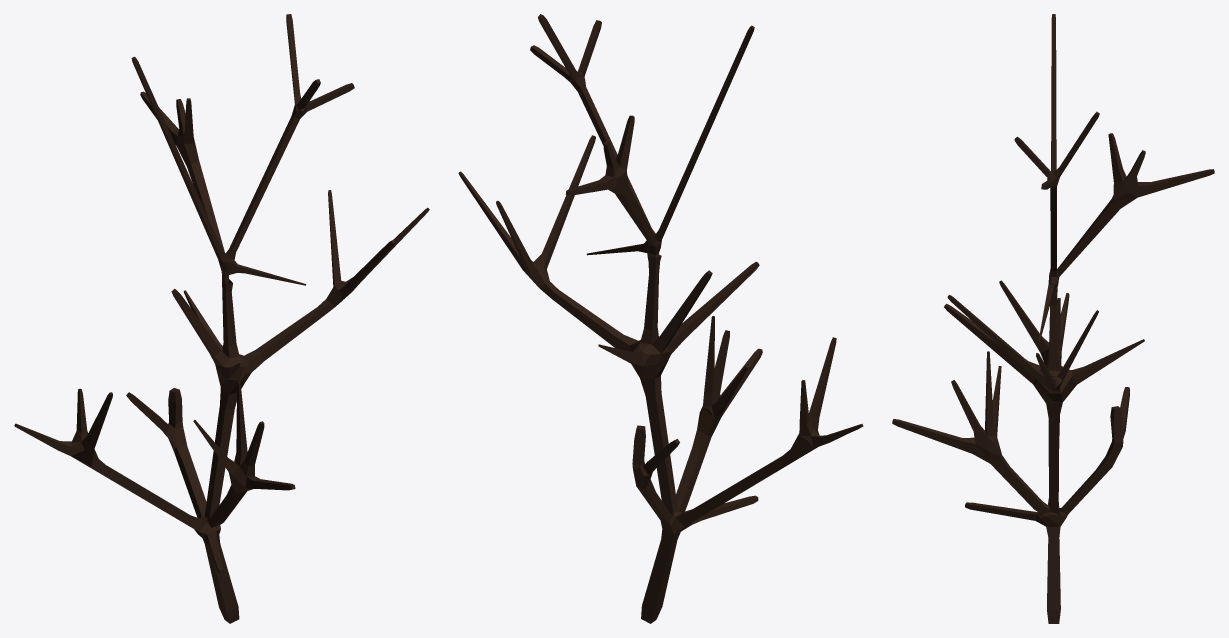
The model's file is tree.fbx.
3 views of the same model, side by side, from view 1: azimuth 30°, elevation 25°; view 2: azimuth 150°, elevation 25°; view 3: azimuth 270°, elevation 25° (orthographic). The views are drawn at different scales.
Parts seen in each view (by area): view 1: Cube; view 2: Cube; view 3: Cube.
Boxes of the visible parts, left/top/right/bottom form: Cube: left=14, top=14, right=429, bottom=623; Cube: left=458, top=14, right=863, bottom=623; Cube: left=892, top=14, right=1214, bottom=623.
Size of the model in its own units: 492 by 693 by 359.
